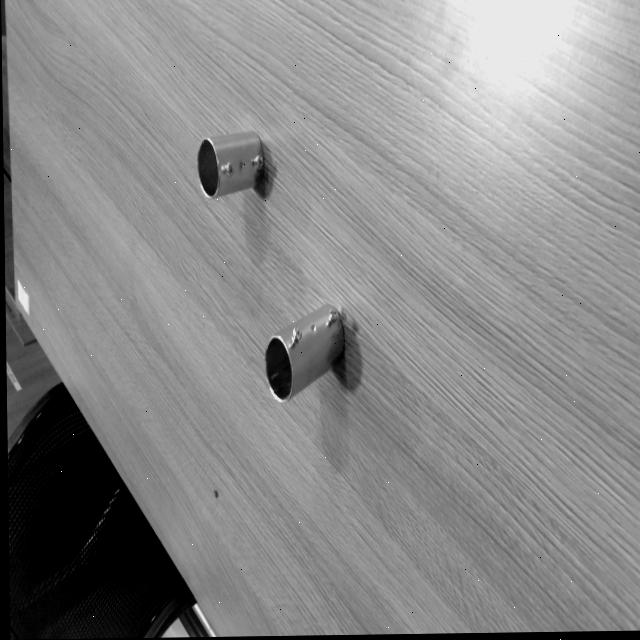Co_Lon: (244, 297, 363, 406)
Co_Nho: (190, 127, 270, 201)
